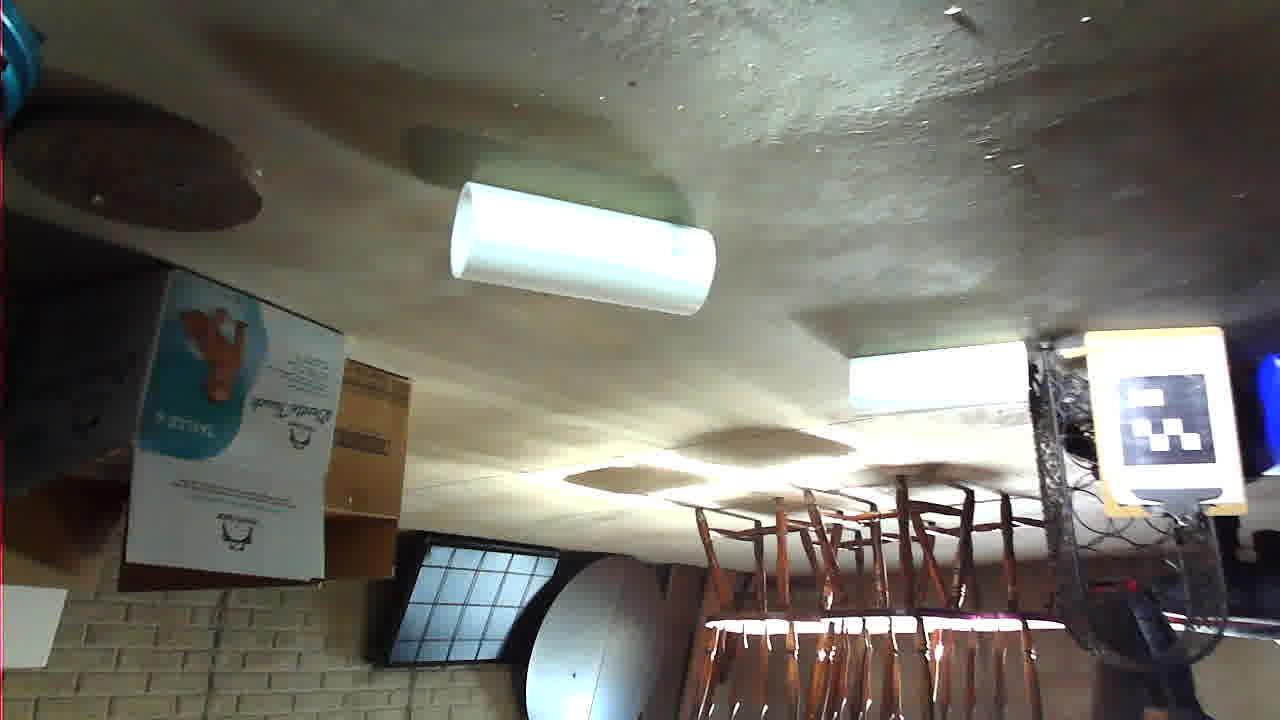coral: (558, 397, 835, 544)
